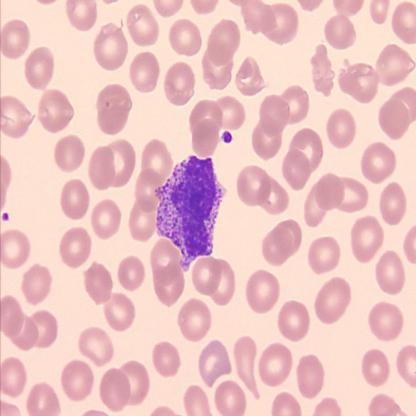Metamyelocyte: (153, 150, 229, 274)
